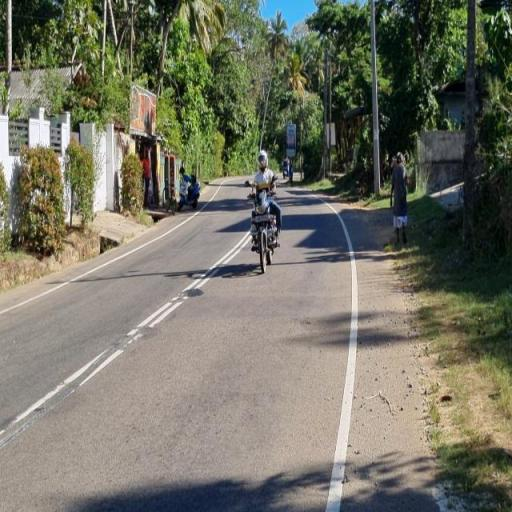double_white_line: (125, 227, 253, 344)
